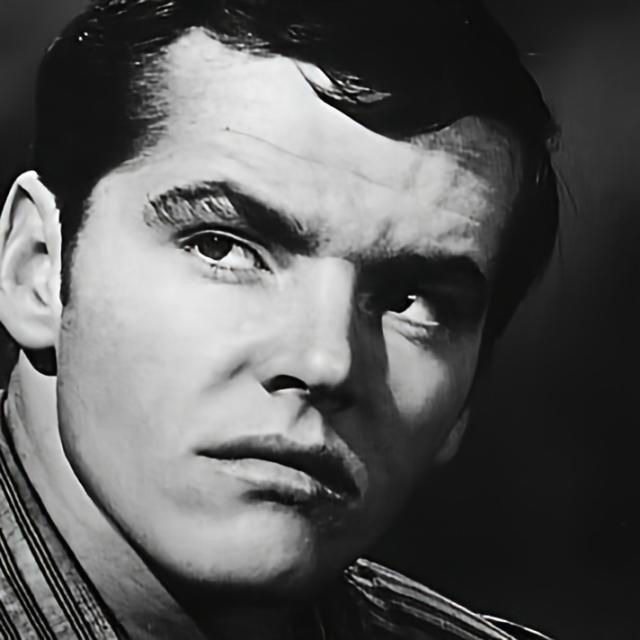anger: (60, 69, 496, 595)
